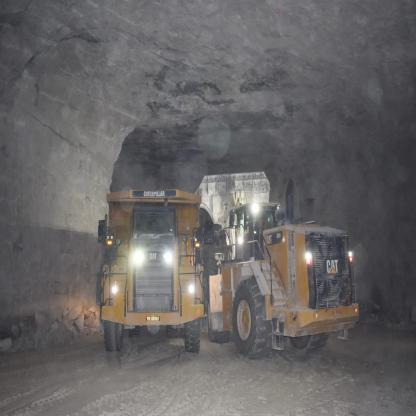bull_dozer/loader/grader: (200, 157, 374, 368)
dump_truck: (96, 171, 206, 369)
